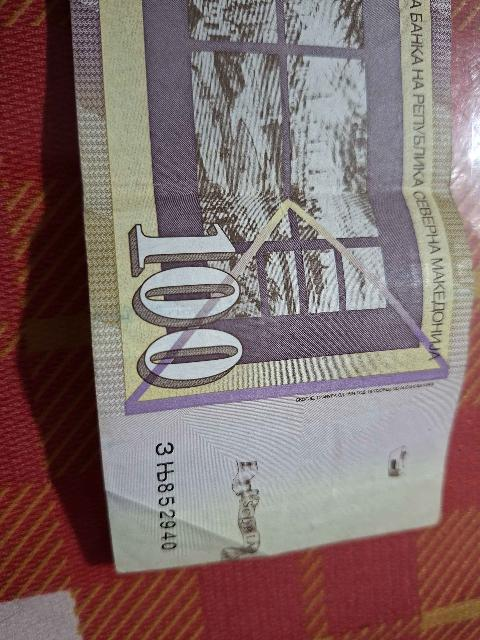100_note: (73, 0, 470, 572)
